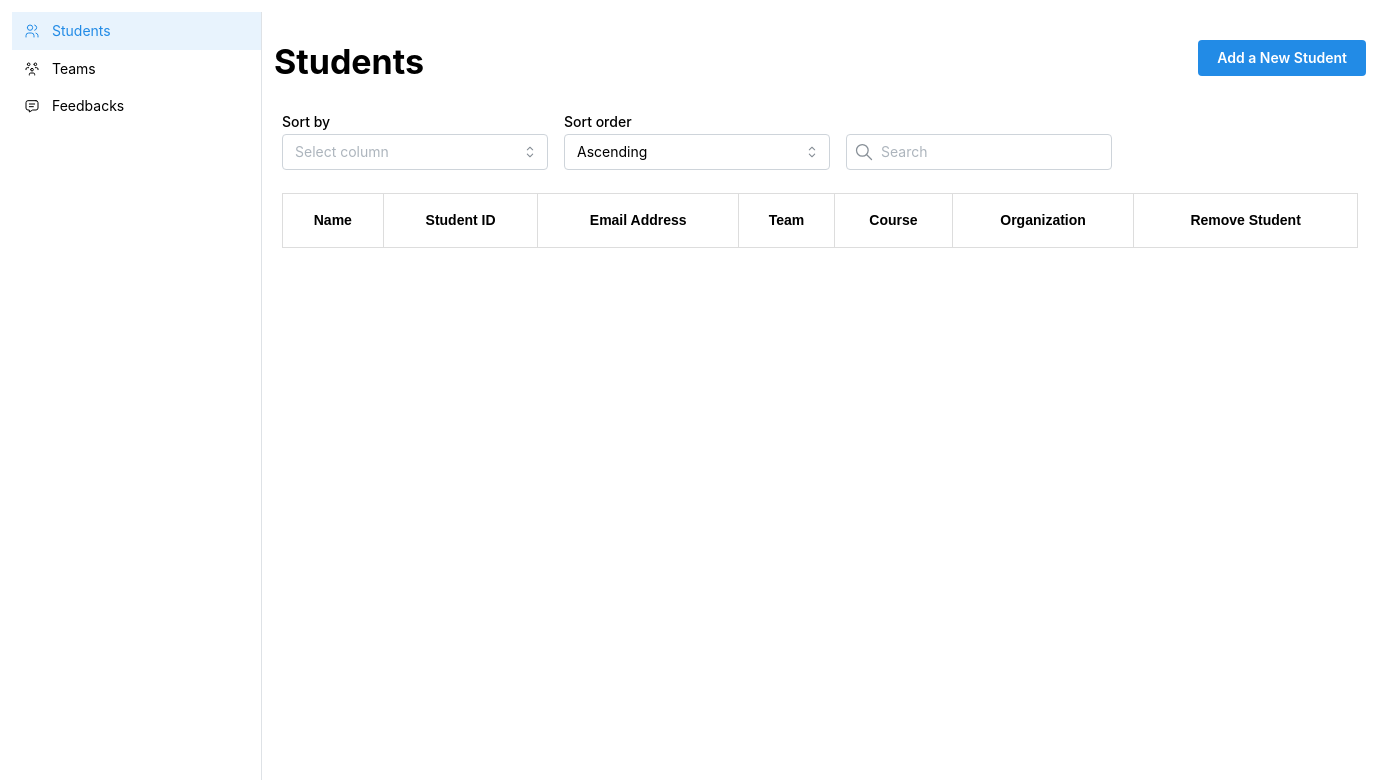
InstructorDashboard › must select an organization
This screenshot has width=1378, height=780.
Step 1. Click the icon with test id "Feedbacks" → (32, 106), box top-left (24, 98), bottom-right (40, 114)
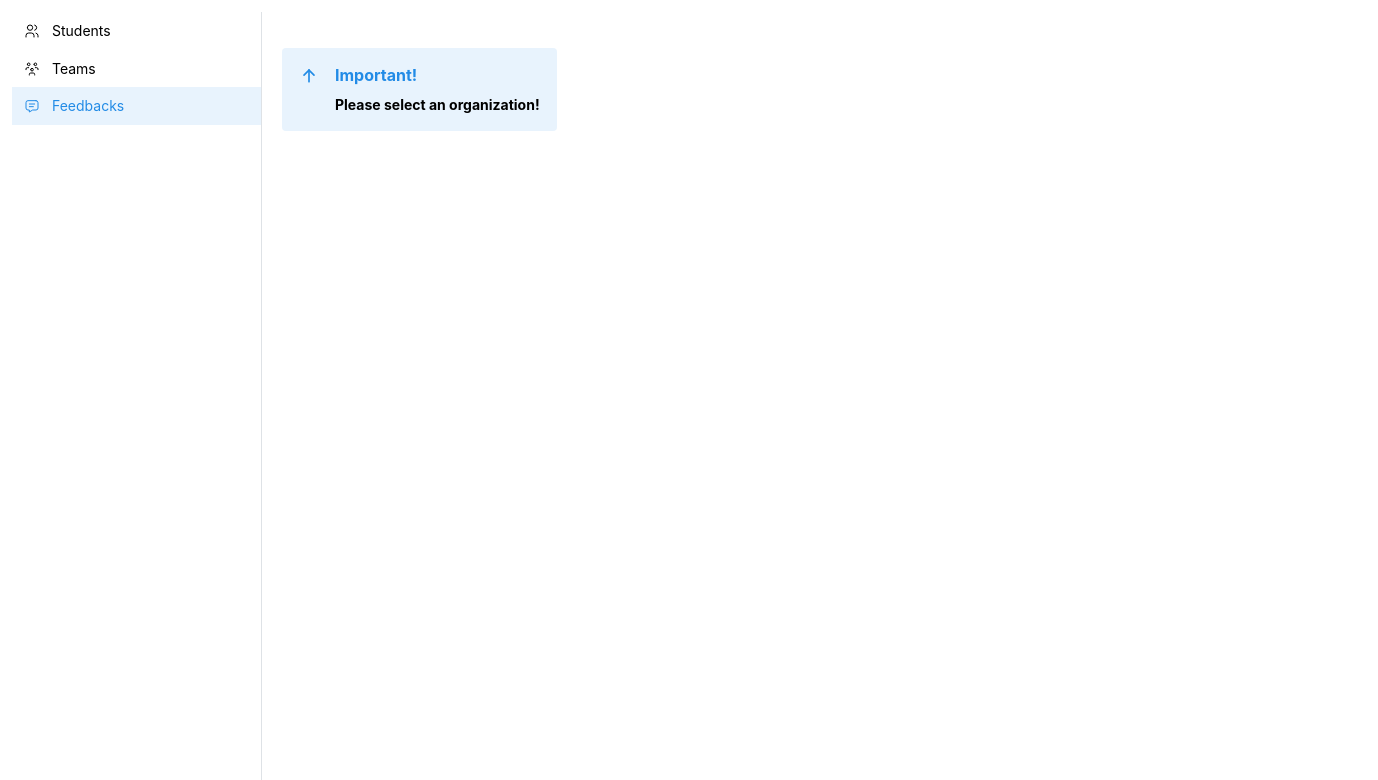
Check: the text "Please select an organization!" is shown, box top-left (335, 96), bottom-right (540, 114)
